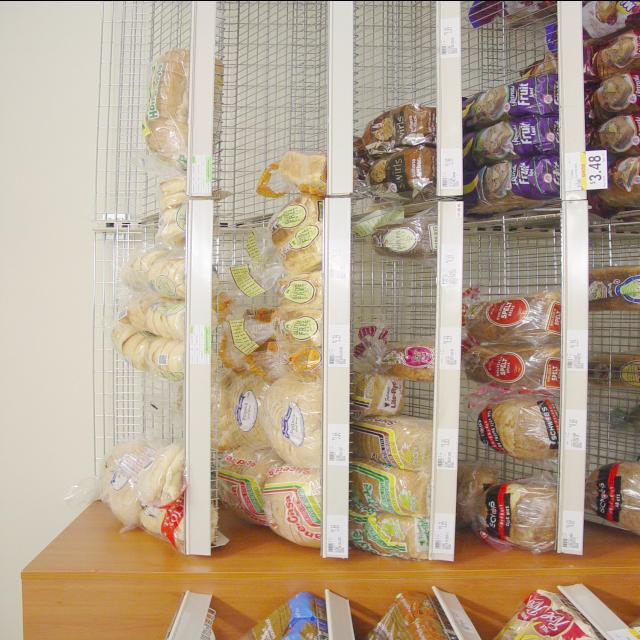empty_space: (231, 0, 320, 144), (363, 0, 425, 102), (591, 326, 640, 442), (363, 265, 433, 323), (482, 220, 554, 273), (112, 382, 184, 435), (468, 22, 540, 72), (127, 3, 193, 41)
